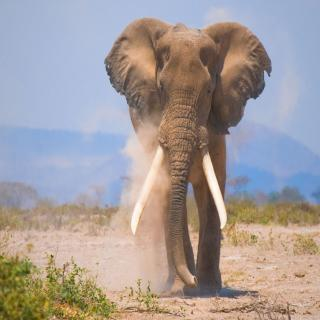Elephant: (102, 9, 273, 302)
